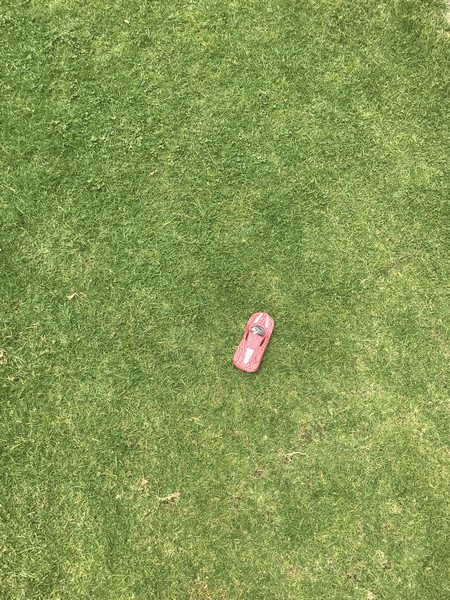RC: (228, 310, 277, 374)
